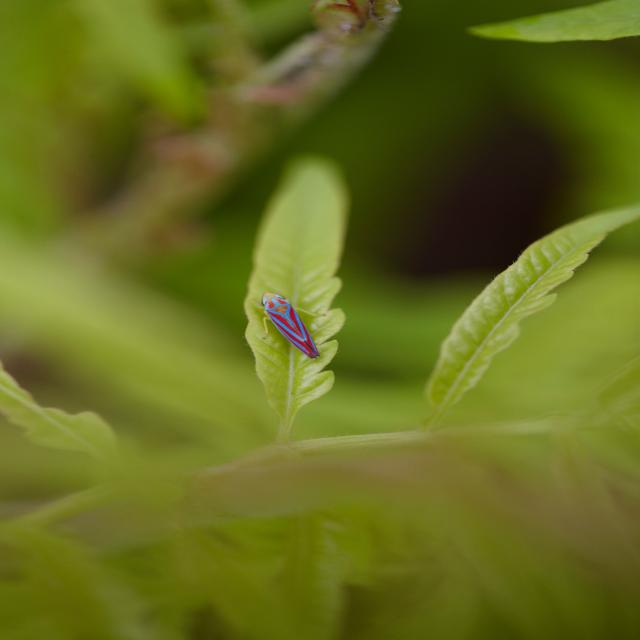Yechan: (251, 287, 326, 364)
